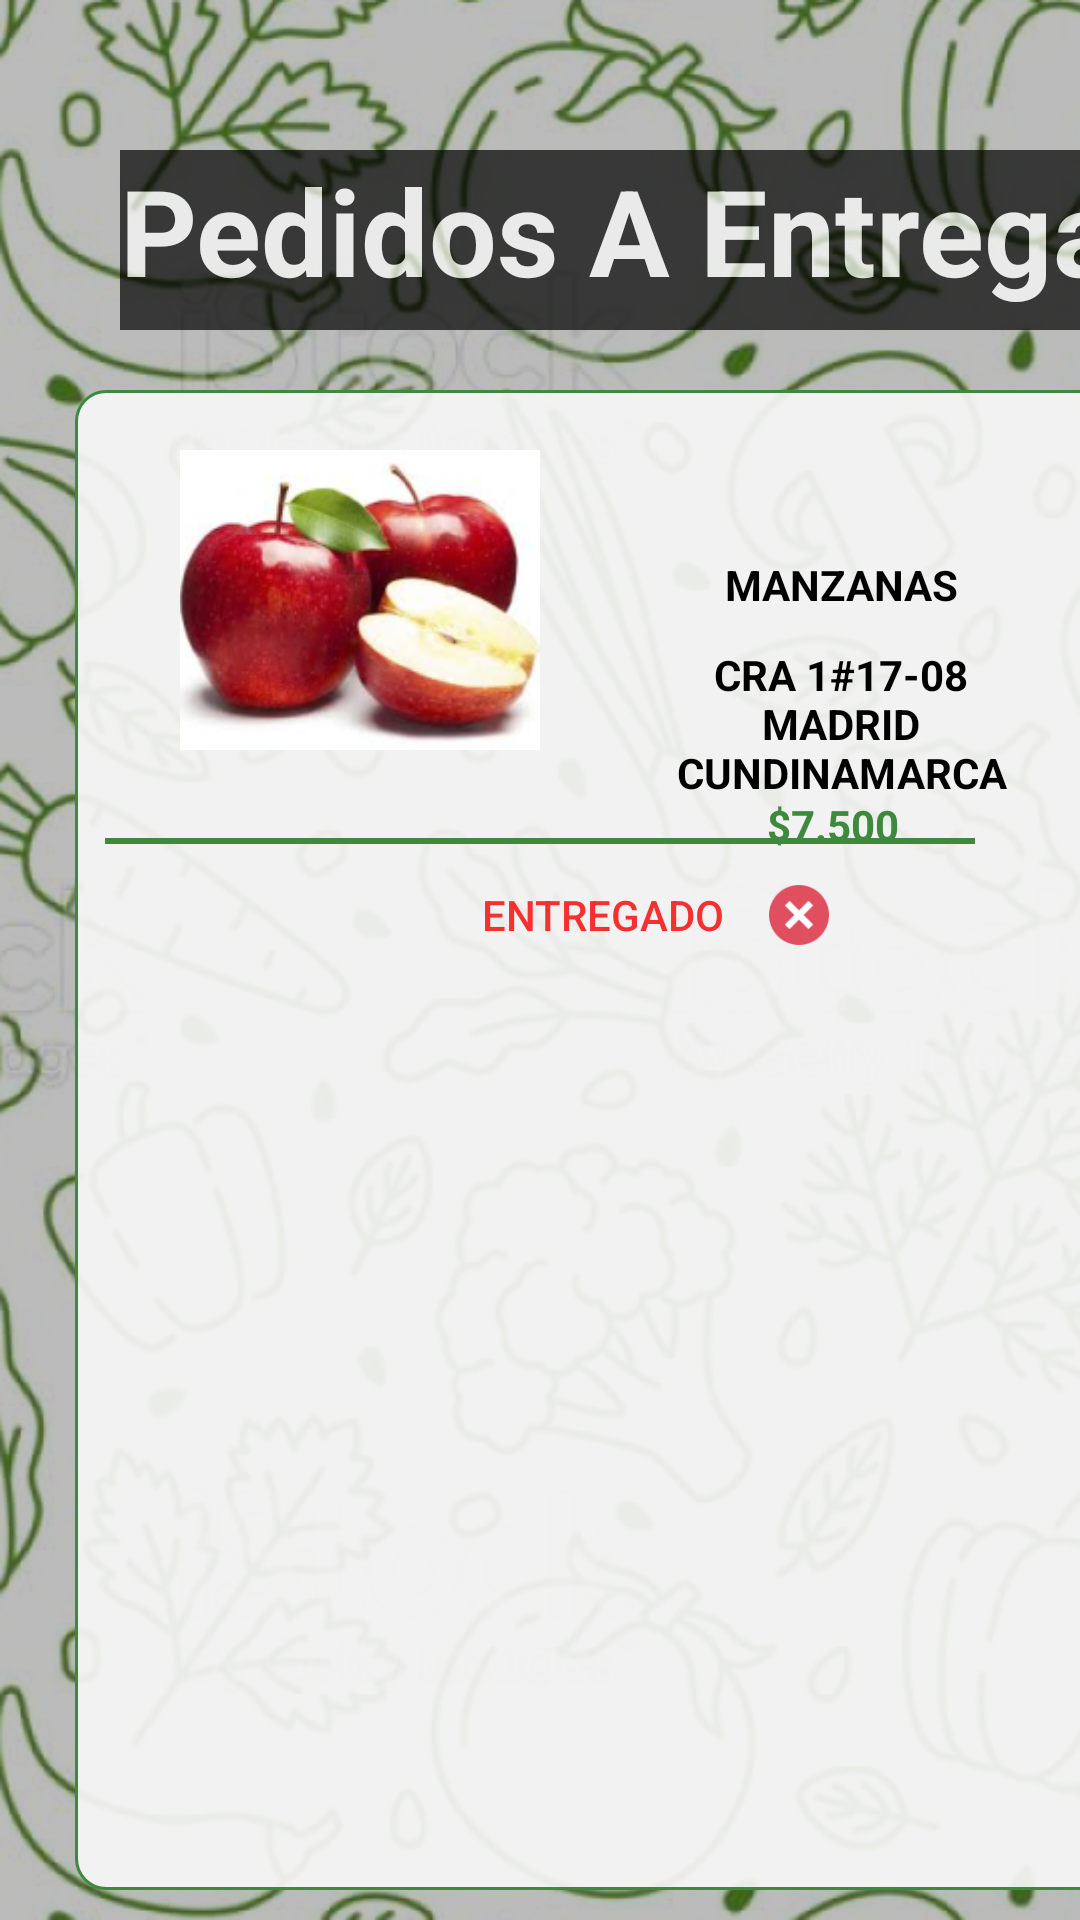

Icons on this 1080w x 1920h Android screen, each with its box as {"x1": x1, "y1": y1, "x2": x2, "y2": y2}:
cerrar rojo: {"x1": 769, "y1": 885, "x2": 829, "y2": 945}
